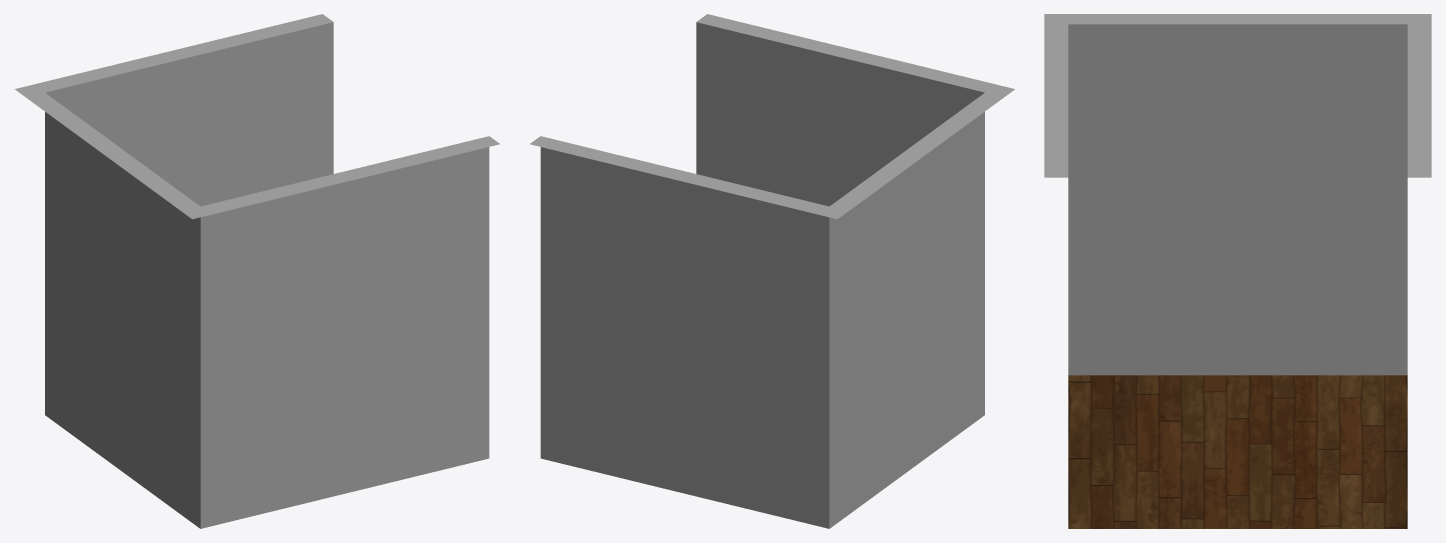
Rendered from Int_House_Alcove_01.fbx.
The picture shows the model from 3 angles, left to right: view 1: azimuth 30°, elevation 25°; view 2: azimuth 150°, elevation 25°; view 3: azimuth 270°, elevation 25°; orthographic projection. The views are drawn at different scales.
Parts seen in each view (by area): view 1: Int_House_Alcove_01; view 2: Int_House_Alcove_01; view 3: Int_House_Alcove_01.
Boxes of the visible parts, <box> form: Int_House_Alcove_01: <box>15,14,499,528</box>; Int_House_Alcove_01: <box>530,14,1014,528</box>; Int_House_Alcove_01: <box>1044,14,1431,528</box>.
Bounding box in the file's own units: 400 × 400 × 400.
Materials: 2 (1 with a texture image).
